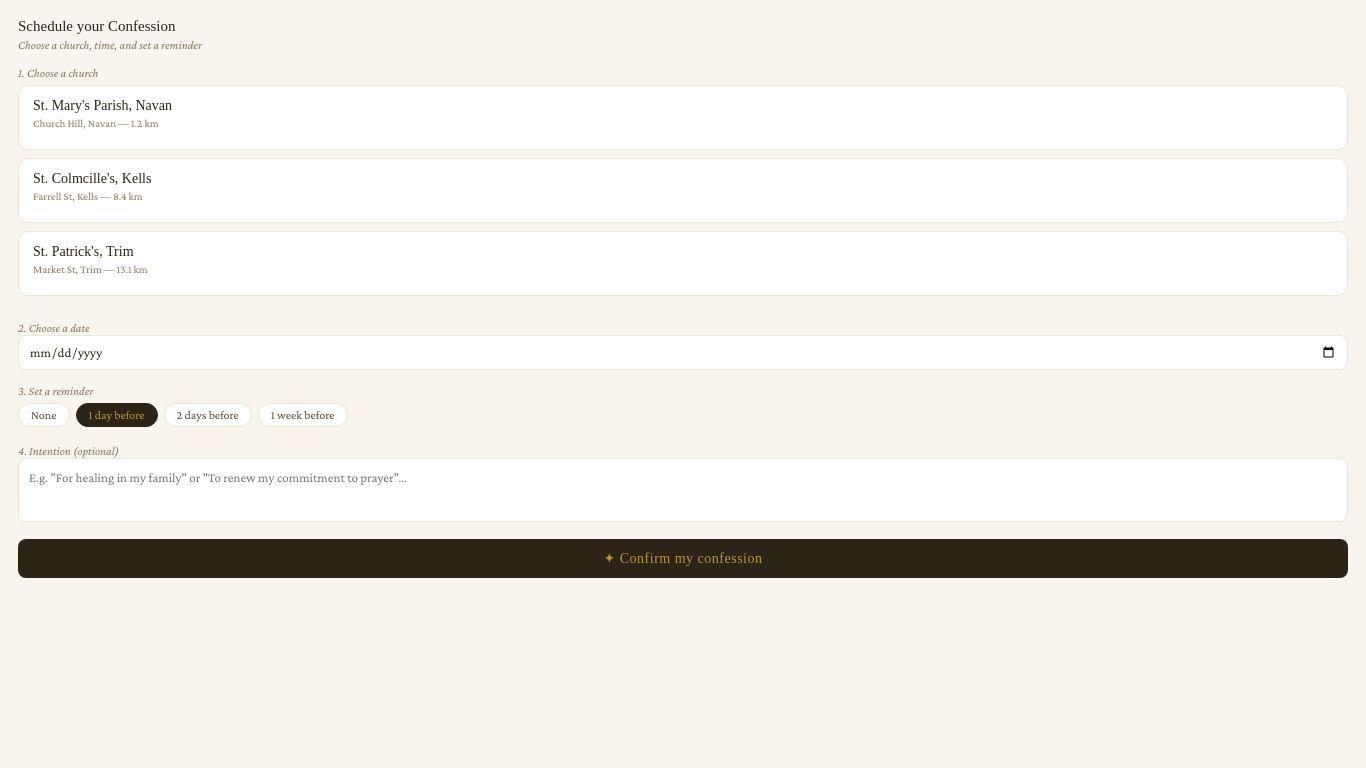
Test case: ScheduleScreen › shows error when confirming without selecting a church
Click the button "✦ Confirm my confession". click: point(683, 558)
box: [18, 539, 1348, 578]
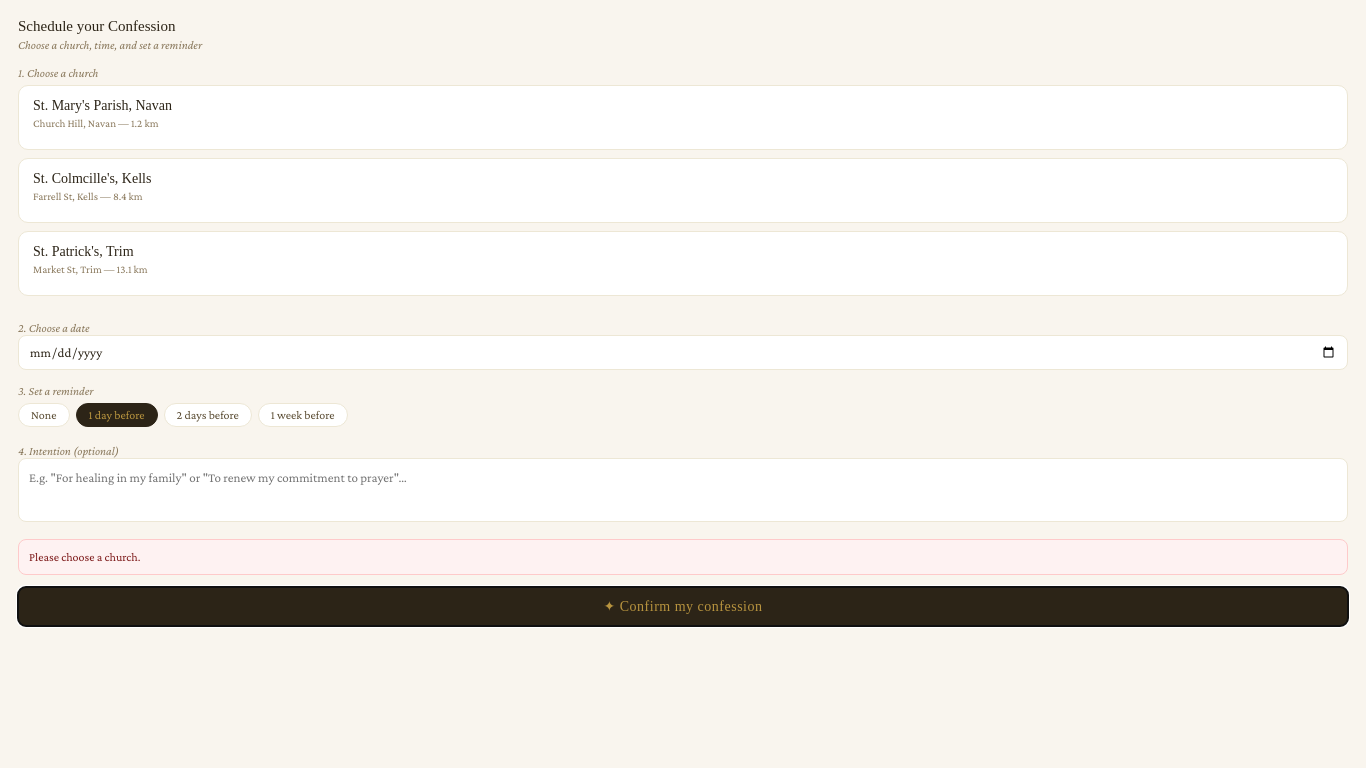
Expected: the text "Please choose a church." is shown, [18, 539, 1348, 575]
